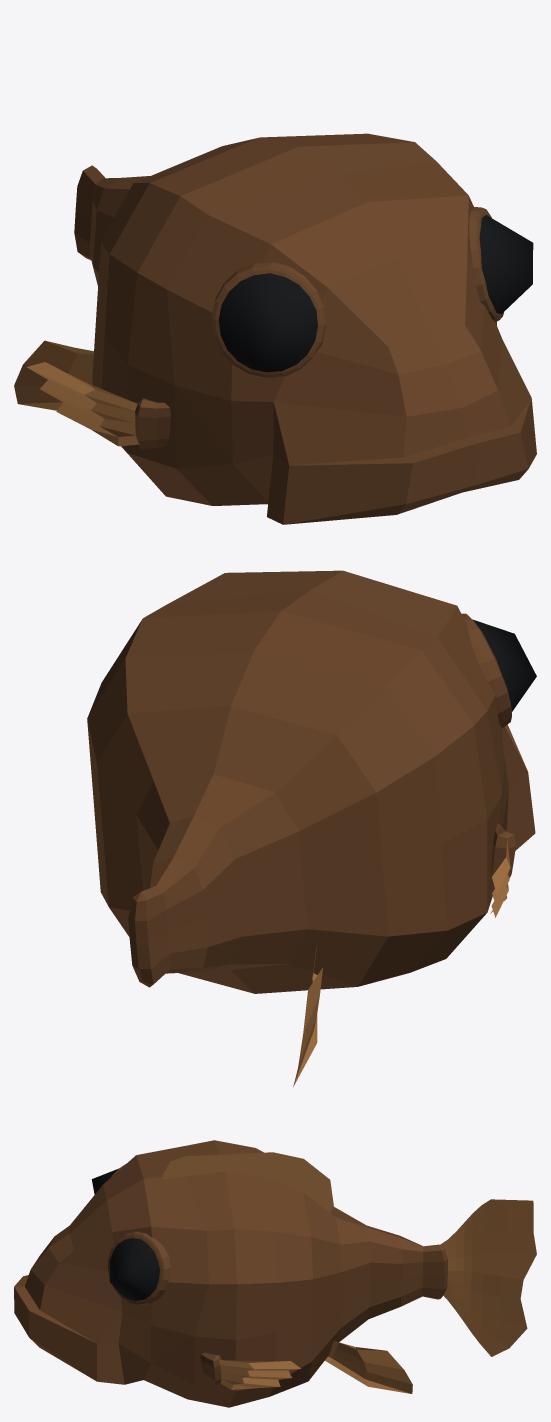
Rendered from cc0-coral-grouper-lod1.glb.
3 views of the same model, one above another, from view 1: azimuth 30°, elevation 25°; view 2: azimuth 150°, elevation 25°; view 3: azimuth 270°, elevation 25° (orthographic). The views are drawn at different scales.
Parts seen in each view (by area): view 1: part_0; view 2: part_0; view 3: part_0.
Part boxes in pixels (x1=…): part_0: x1=14, y1=133, x2=536, y2=524; part_0: x1=87, y1=570, x2=536, y2=1086; part_0: x1=14, y1=1140, x2=536, y2=1407.
Size of the model in its own units: 3.15 by 2.54 by 5.23.
